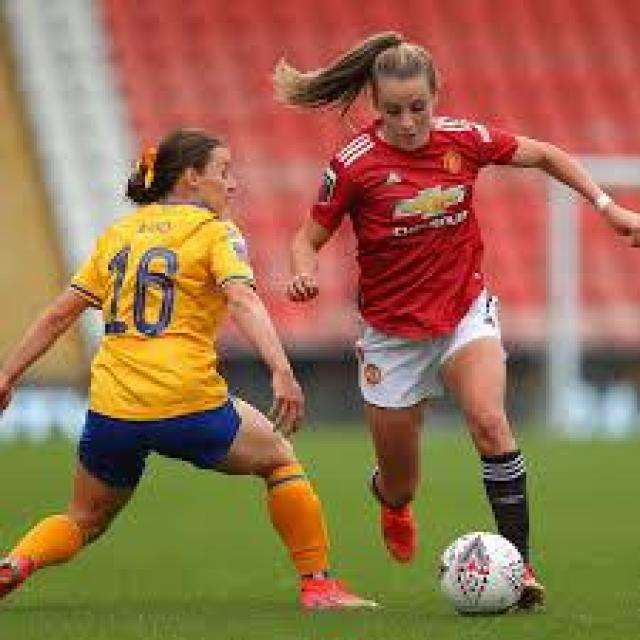Soccer Ball: (441, 532, 526, 617)
